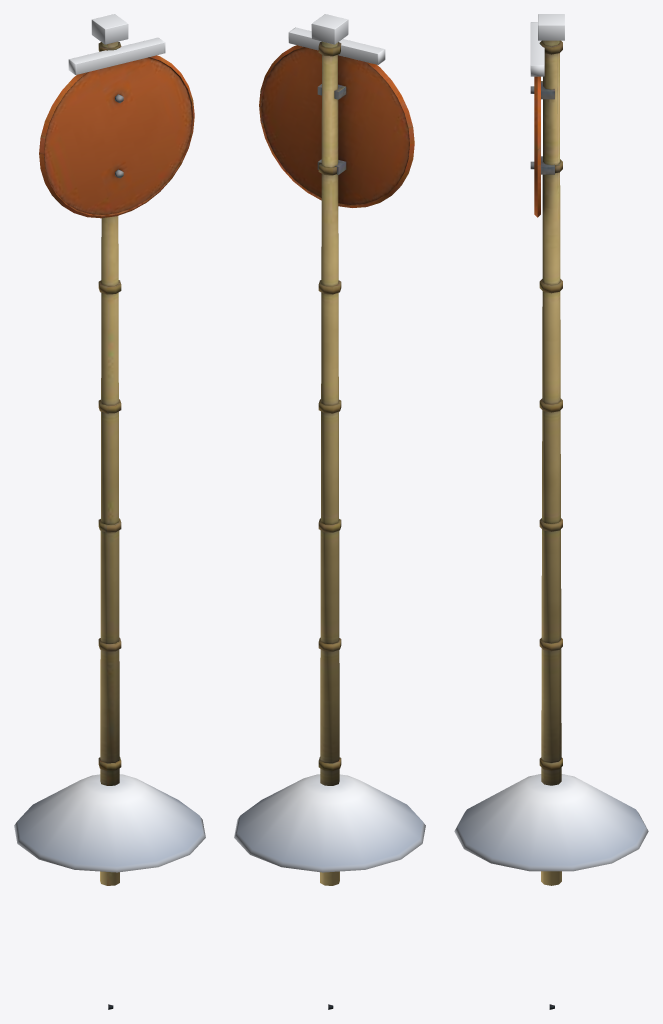
File: boundary_marker.glb
The picture shows the model from 3 angles, left to right: view 1: azimuth 30°, elevation 25°; view 2: azimuth 150°, elevation 25°; view 3: azimuth 270°, elevation 25°; orthographic projection.
Visible parts, largest first — view 1: boundary_marker, boundary_marker_snow; view 2: boundary_marker, boundary_marker_snow; view 3: boundary_marker, boundary_marker_snow.
Boxes of the visible parts, bbox=[...] form: boundary_marker: bbox=[39, 41, 194, 1009]; boundary_marker_snow: bbox=[14, 14, 205, 872]; boundary_marker: bbox=[259, 41, 414, 1009]; boundary_marker_snow: bbox=[234, 14, 425, 872]; boundary_marker: bbox=[530, 40, 562, 1009]; boundary_marker_snow: bbox=[454, 14, 648, 871].
Size of the model in its own units: 0.547 by 3.15 by 0.5611.
Materials: 2 (1 with a texture image).
